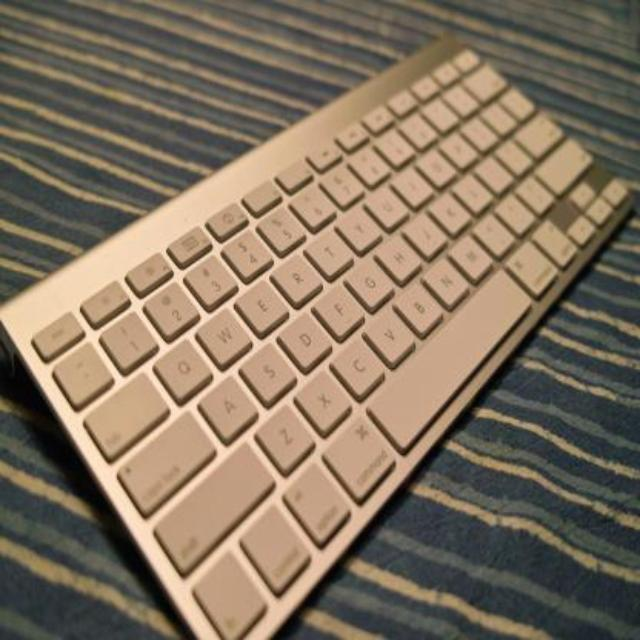Computer-Keyboard: (2, 28, 636, 632)
